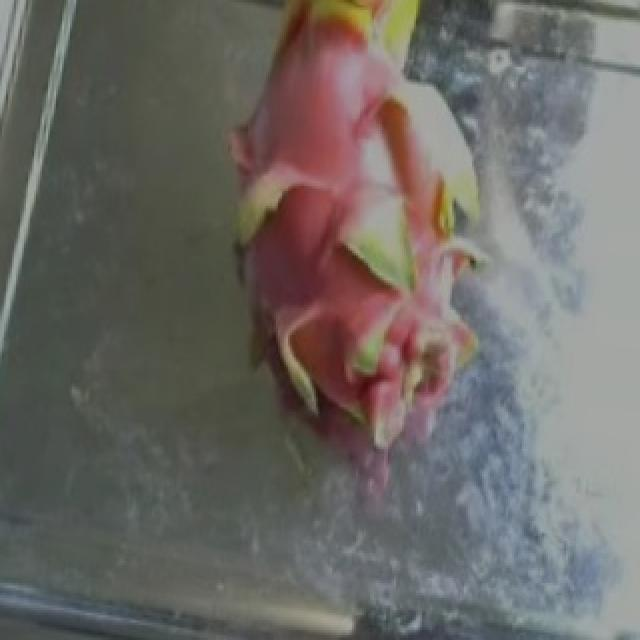fruit: (150, 0, 592, 422)
